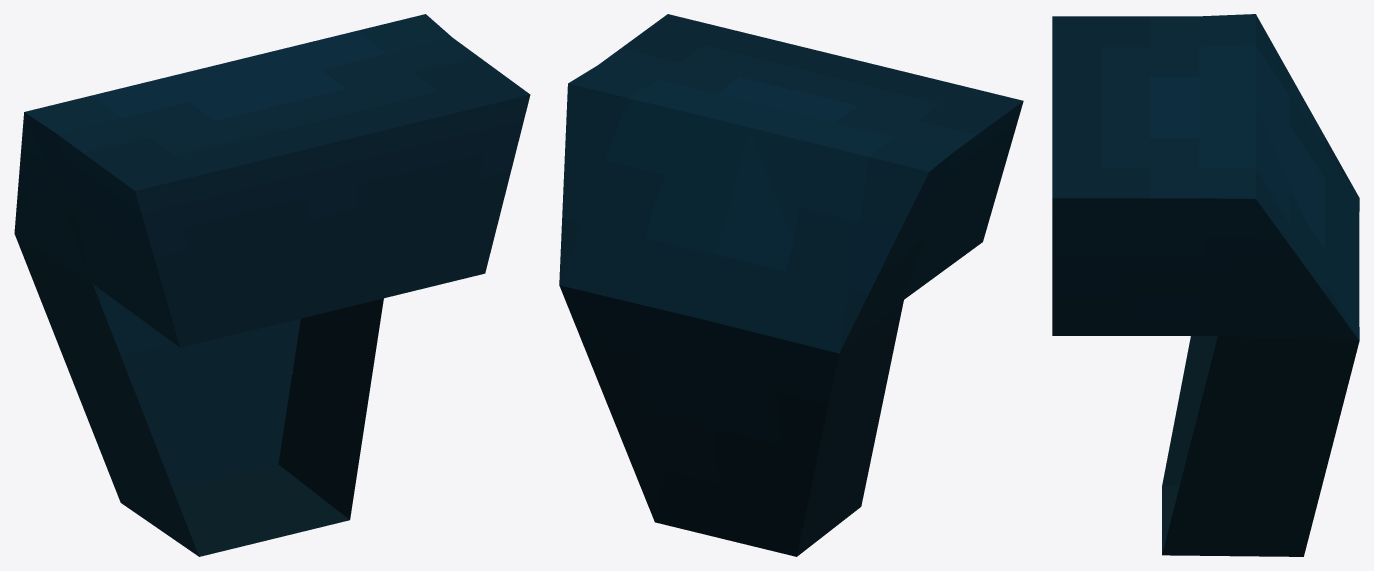
Rendered from PegasusChevronUpperBack.obj.
3 renders of one model, left to right at view 1: azimuth 30°, elevation 25°; view 2: azimuth 150°, elevation 25°; view 3: azimuth 270°, elevation 25°, orthographic. The views are drawn at different scales.
Visible parts, largest first — view 1: UpperChevronBack; view 2: UpperChevronBack; view 3: UpperChevronBack.
Part boxes in pixels (x1,y1,x2,y2): UpperChevronBack: (14, 14, 530, 556); UpperChevronBack: (559, 14, 1023, 556); UpperChevronBack: (1052, 14, 1359, 556).
Bounding box in the file's own units: 0.2597 × 0.2715 × 0.1823.
Materials: 1 (1 with a texture image).
